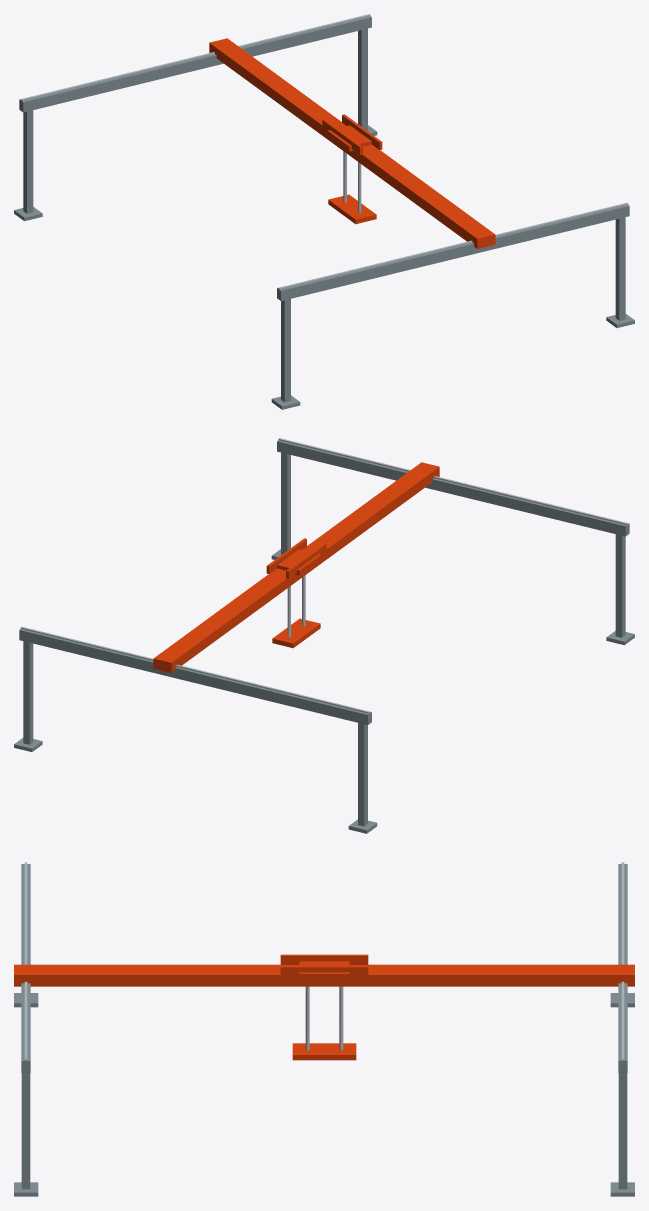
File: overhead_gantry.dae
3 renders of one model, top to bottom at view 1: azimuth 30°, elevation 25°; view 2: azimuth 150°, elevation 25°; view 3: azimuth 270°, elevation 25°, orthographic. The views are drawn at different scales.
Parts seen in each view (by area): view 1: overhead_gantry; view 2: overhead_gantry; view 3: overhead_gantry.
Boxes of the visible parts, x1,y1,x2,y2 form: overhead_gantry: (14,14,634,409); overhead_gantry: (14,438,634,833); overhead_gantry: (14,862,634,1196).
Size of the model in its own units: 12.65 by 16.65 by 4.49.
